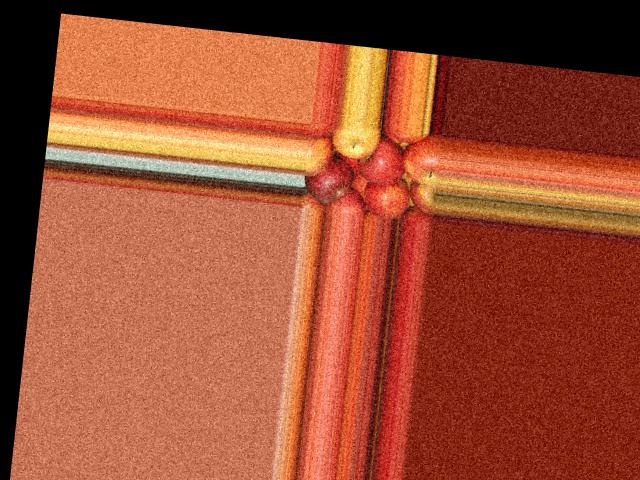apple: (359, 173, 412, 218)
